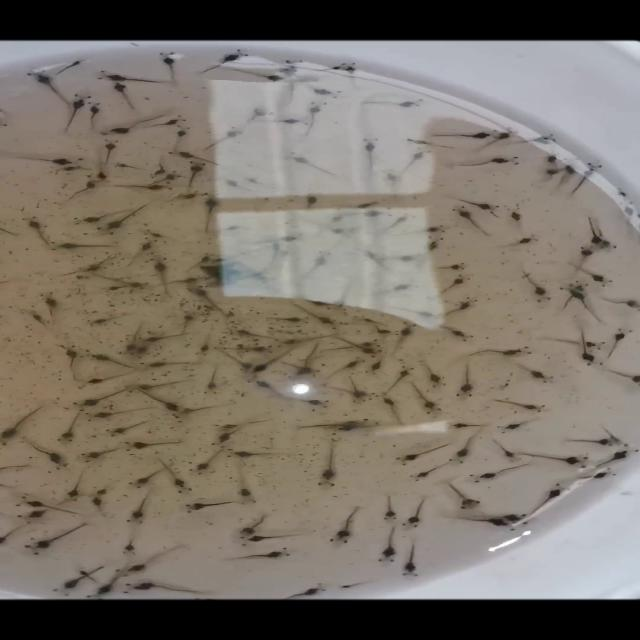shrimp2: (324, 502, 366, 546), (451, 154, 525, 178), (222, 545, 295, 569), (312, 440, 346, 491), (399, 491, 434, 535), (197, 192, 228, 238), (398, 538, 428, 580), (359, 96, 431, 113), (104, 417, 161, 438), (491, 395, 548, 415), (452, 359, 478, 402), (120, 438, 189, 454), (420, 358, 450, 392), (61, 340, 83, 381), (74, 448, 122, 465), (381, 489, 402, 524), (445, 419, 490, 430)
